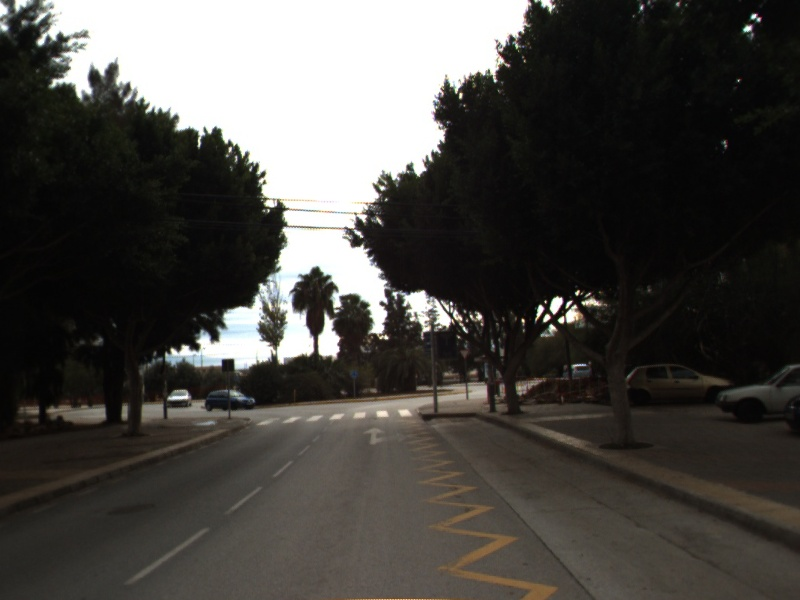STRAIGHT_RIGHT: (361, 425, 410, 447)
